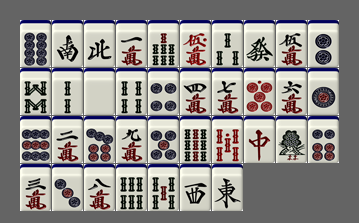0m: (180, 20, 211, 67)
0p: (244, 68, 275, 115)
0s: (212, 116, 243, 163)
1m: (116, 20, 147, 67)
1p: (308, 68, 339, 115)
1s: (276, 116, 307, 163)
1z: (212, 164, 243, 211)
2m: (52, 116, 83, 163)
2p: (308, 20, 339, 67)
2s: (52, 68, 83, 115)
2z: (52, 20, 83, 67)
3m: (20, 164, 51, 211)
3p: (52, 164, 83, 211)
3s: (212, 20, 243, 67)
3z: (180, 164, 211, 211)
4m: (180, 68, 211, 115)
4p: (148, 68, 179, 115)
4s: (116, 68, 147, 115)
4z: (84, 20, 115, 67)
5m: (276, 20, 307, 67)
5p: (148, 116, 179, 163)
5s: (148, 164, 179, 211)
5z: (84, 68, 115, 115)
6m: (276, 68, 307, 115)
6p: (308, 116, 339, 163)
6s: (116, 164, 147, 211)
6z: (244, 20, 275, 67)
7m: (212, 68, 243, 115)
7p: (84, 116, 115, 163)
7s: (148, 20, 179, 67)
7z: (244, 116, 275, 163)
8m: (84, 164, 115, 211)
8p: (20, 20, 51, 67)
8s: (20, 68, 51, 115)
9m: (116, 116, 147, 163)
9p: (20, 116, 51, 163)
9s: (180, 116, 211, 163)
